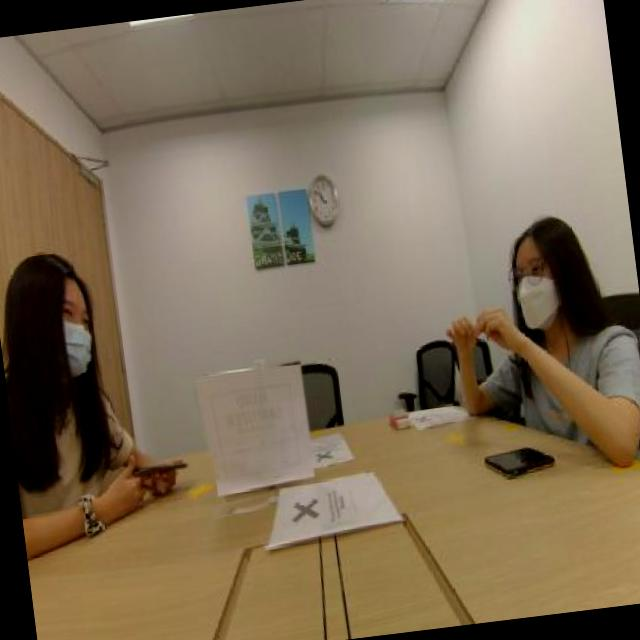Person: (447, 200, 640, 435), (0, 224, 138, 504)
